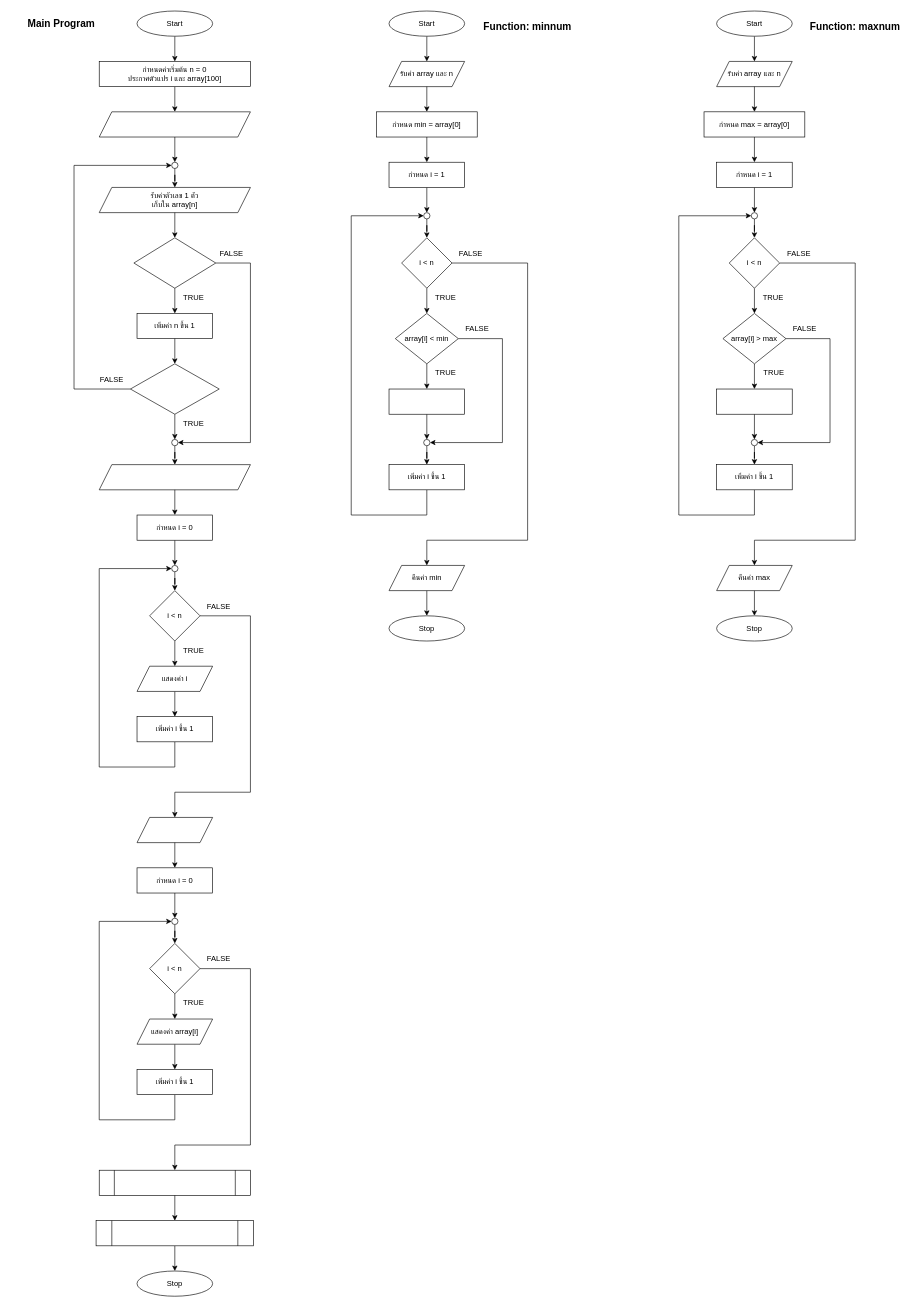
Image size: 916x1307. Some labels were removed from this diagram. The centre of each missing label's shape, as x and y in pixels:
max = array[i]: (754,401)
min = array[i]: (426,401)
ตัวอักษรที่รับมา คือ Enter หรือไม่: (174,388)
รับค่าสำเร็จหรือไม่: (174,262)
เรียกใช้ฟังก์ชัน maxnum แสดงผลค่าที่ได้: (174,1233)
เรียกใช้ฟังก์ชัน minnum แสดงผลค่าที่ได้: (174,1182)
แสดงผล "Array : ": (174,830)
แสดงผล "Enter value : ": (174,124)
แสดงผล "Index : ": (174,477)
